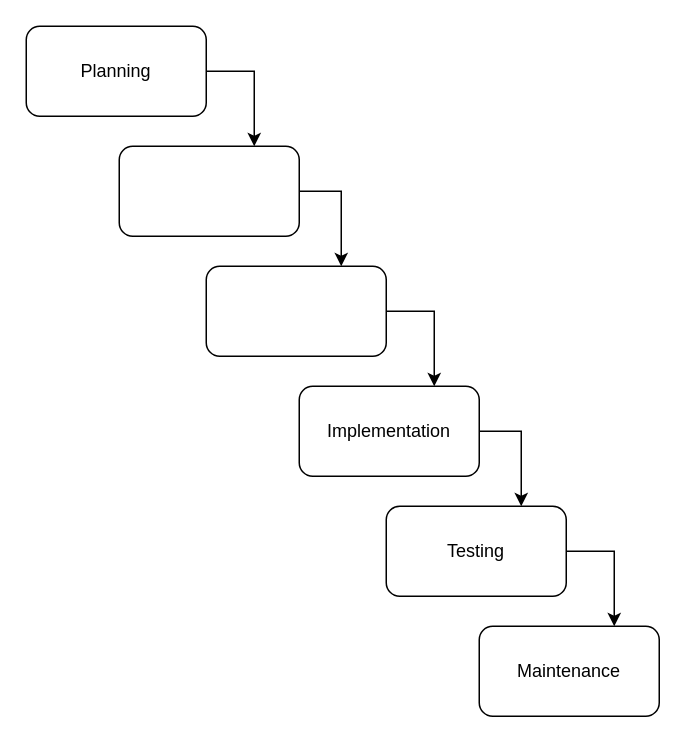
Some shapes in this 686 by 743 pixel diagram are drawn without their labels. Each missing label, with the centre of its shape:
"Analysis" belongs at (208,190).
"Design" belongs at (295,310).
